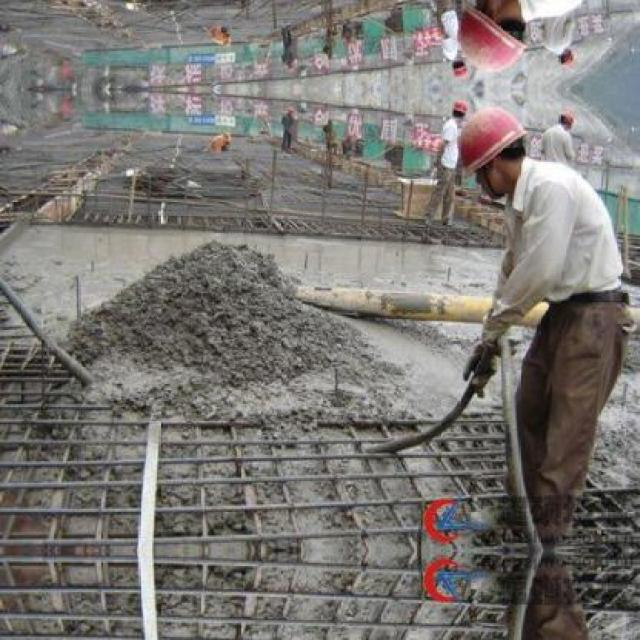helmet: (452, 102, 530, 196), (452, 0, 531, 77), (554, 106, 575, 131), (554, 48, 575, 72), (450, 99, 467, 120), (450, 59, 467, 80)
